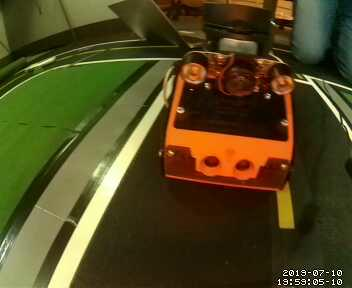pheeno: (153, 2, 297, 202)
